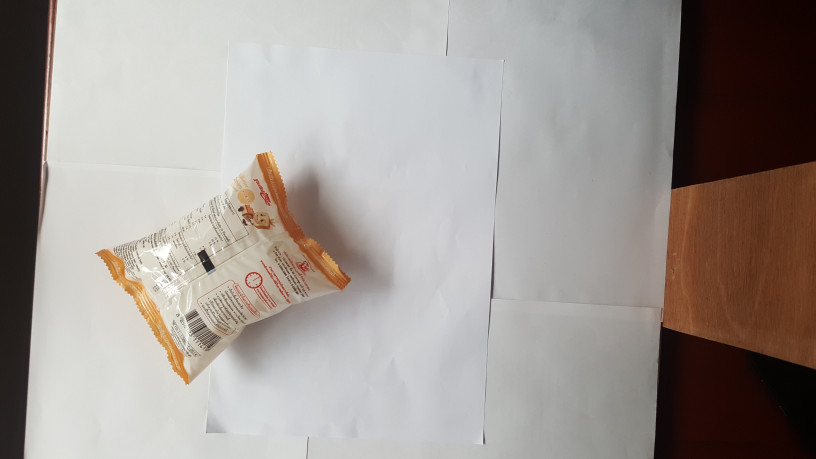farmhouse-sweetsandwich-almond: (89, 141, 355, 391)
